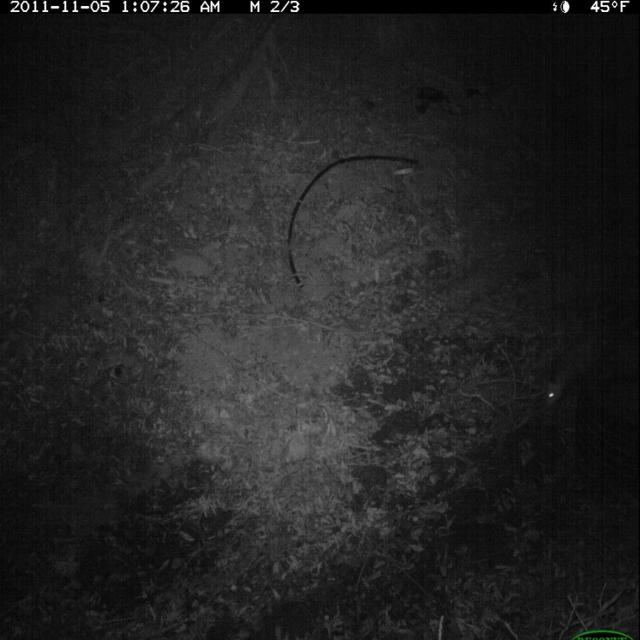opossum: (541, 307, 621, 422)
